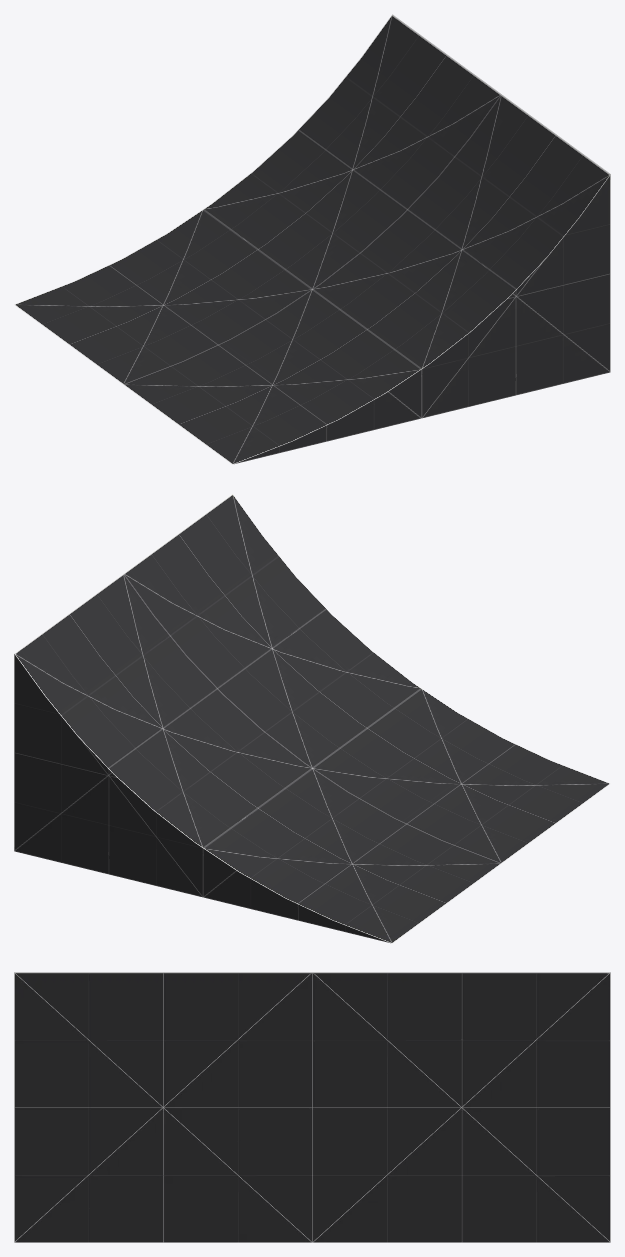
The model's file is ramp-transformed.glb.
3 views of the same model, one above another, from view 1: azimuth 30°, elevation 25°; view 2: azimuth 150°, elevation 25°; view 3: azimuth 270°, elevation 25° (orthographic). The views are drawn at different scales.
Visible parts, largest first — view 1: Ramp; view 2: Ramp; view 3: Ramp.
Part boxes in pixels (x1=…): Ramp: x1=14, y1=14, x2=610, y2=464; Ramp: x1=14, y1=493, x2=610, y2=943; Ramp: x1=14, y1=972, x2=610, y2=1242.
Bounding box in the file's own units: 10 × 5 × 10.
Materials: 1 (1 with a texture image).
